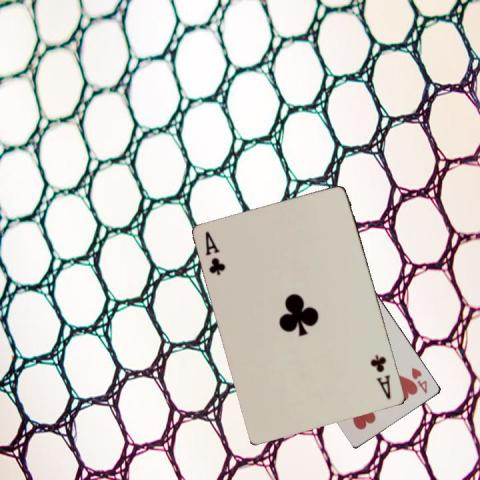4h: (408, 365, 428, 395)
Ac: (368, 352, 393, 401), (202, 228, 227, 276)
